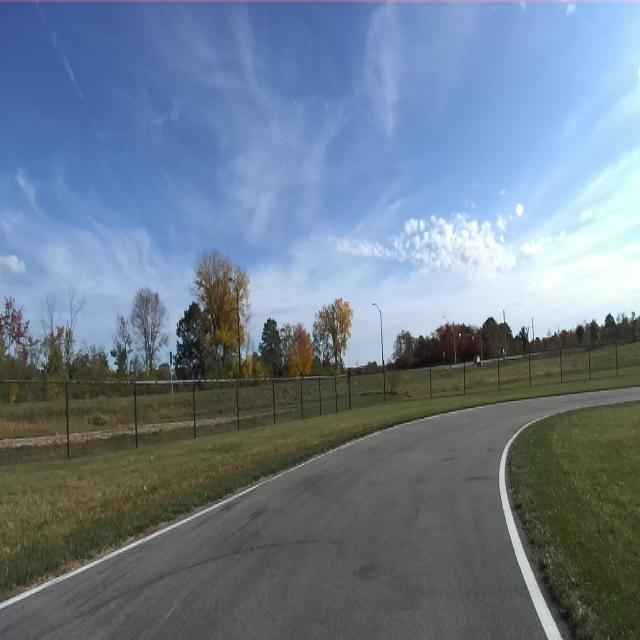white-line: (0, 430, 382, 611), (499, 415, 563, 639), (386, 411, 464, 430)
